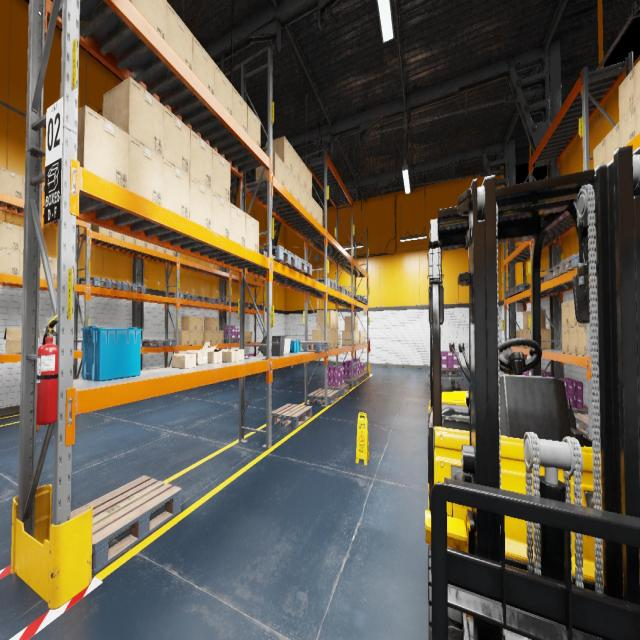box: (103, 76, 163, 157), (77, 105, 129, 189), (128, 135, 163, 206), (166, 1, 193, 71), (163, 105, 190, 175), (162, 158, 190, 219), (190, 129, 212, 190), (134, 0, 166, 41), (193, 35, 214, 95), (189, 176, 212, 229), (255, 152, 284, 186), (212, 148, 230, 202), (266, 136, 292, 173), (214, 63, 232, 115), (3, 328, 40, 353), (618, 67, 635, 121), (212, 191, 230, 238), (0, 167, 23, 199), (619, 104, 636, 147), (232, 85, 247, 132), (230, 203, 245, 246), (0, 221, 20, 251), (606, 122, 620, 164), (20, 226, 40, 255), (19, 251, 40, 278), (0, 247, 19, 275), (248, 105, 260, 147), (23, 176, 43, 199), (569, 300, 586, 327), (527, 329, 551, 348), (246, 214, 258, 252), (40, 255, 57, 281), (523, 310, 546, 329), (202, 342, 222, 363), (593, 137, 606, 168), (172, 353, 196, 368), (312, 329, 330, 348), (317, 310, 334, 329), (186, 351, 207, 364), (634, 60, 640, 103), (569, 327, 578, 355), (91, 224, 112, 236), (578, 326, 586, 356), (284, 164, 292, 194), (221, 349, 239, 362), (174, 330, 189, 345), (292, 174, 300, 202), (561, 301, 569, 327), (293, 148, 299, 182), (562, 328, 570, 353), (344, 316, 358, 330), (182, 316, 196, 330), (300, 158, 306, 189), (342, 331, 355, 345), (635, 99, 640, 135), (306, 166, 312, 196), (204, 318, 218, 330), (300, 183, 306, 209), (230, 349, 244, 360), (306, 190, 312, 215), (312, 198, 318, 220), (112, 231, 124, 241), (204, 331, 212, 344), (125, 235, 136, 244), (190, 331, 197, 345), (514, 330, 520, 346), (196, 331, 203, 344), (137, 239, 147, 248), (147, 242, 157, 251), (318, 204, 322, 226), (360, 331, 366, 344), (197, 317, 203, 330), (245, 331, 252, 342), (523, 329, 527, 348), (334, 310, 338, 329), (334, 329, 338, 348), (218, 331, 223, 344), (212, 331, 217, 344), (158, 246, 166, 254), (331, 329, 334, 348), (167, 249, 175, 256), (520, 330, 523, 348), (356, 331, 358, 344), (75, 263, 76, 283), (130, 0, 134, 4), (358, 331, 359, 344)
forklift: (425, 146, 640, 640)
pallets: (71, 475, 181, 574), (272, 403, 312, 428), (259, 246, 297, 268), (574, 413, 599, 436), (80, 277, 122, 290), (286, 257, 312, 276), (309, 388, 339, 404), (560, 254, 579, 273), (300, 341, 329, 352), (324, 384, 349, 396), (120, 282, 146, 293), (314, 278, 337, 290), (547, 264, 564, 280), (572, 405, 598, 415), (168, 292, 196, 301), (144, 339, 176, 346), (512, 283, 530, 295), (185, 295, 211, 303), (344, 376, 360, 386), (441, 369, 461, 376), (207, 298, 226, 305), (234, 302, 254, 308), (505, 288, 515, 298), (350, 295, 364, 302), (246, 304, 263, 309), (540, 274, 548, 284), (223, 338, 239, 343), (141, 340, 152, 347), (356, 373, 364, 382), (360, 371, 369, 379), (336, 284, 343, 293), (343, 288, 350, 297), (362, 298, 368, 304), (81, 342, 82, 349)
